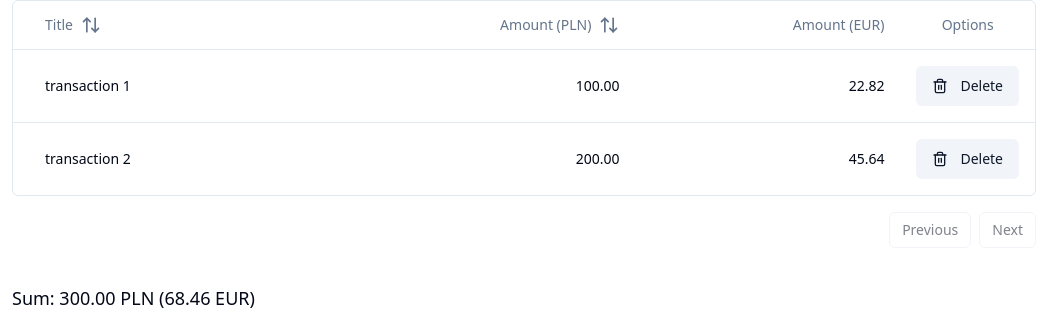
Scenario: <TransactionsTable/> › User clicks delete button
Click the button "Delete" in the row of "transaction 2". click: (968, 158)
box: [916,138,1019,178]
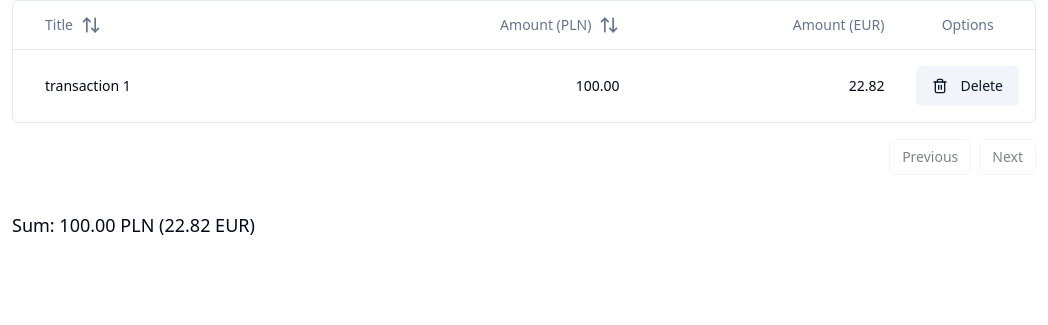
Check: the text "transaction 1" is shown, box [45,76,131,94]
Check: the number of buttons "Delete" is 1, box [916,66,1019,106]
